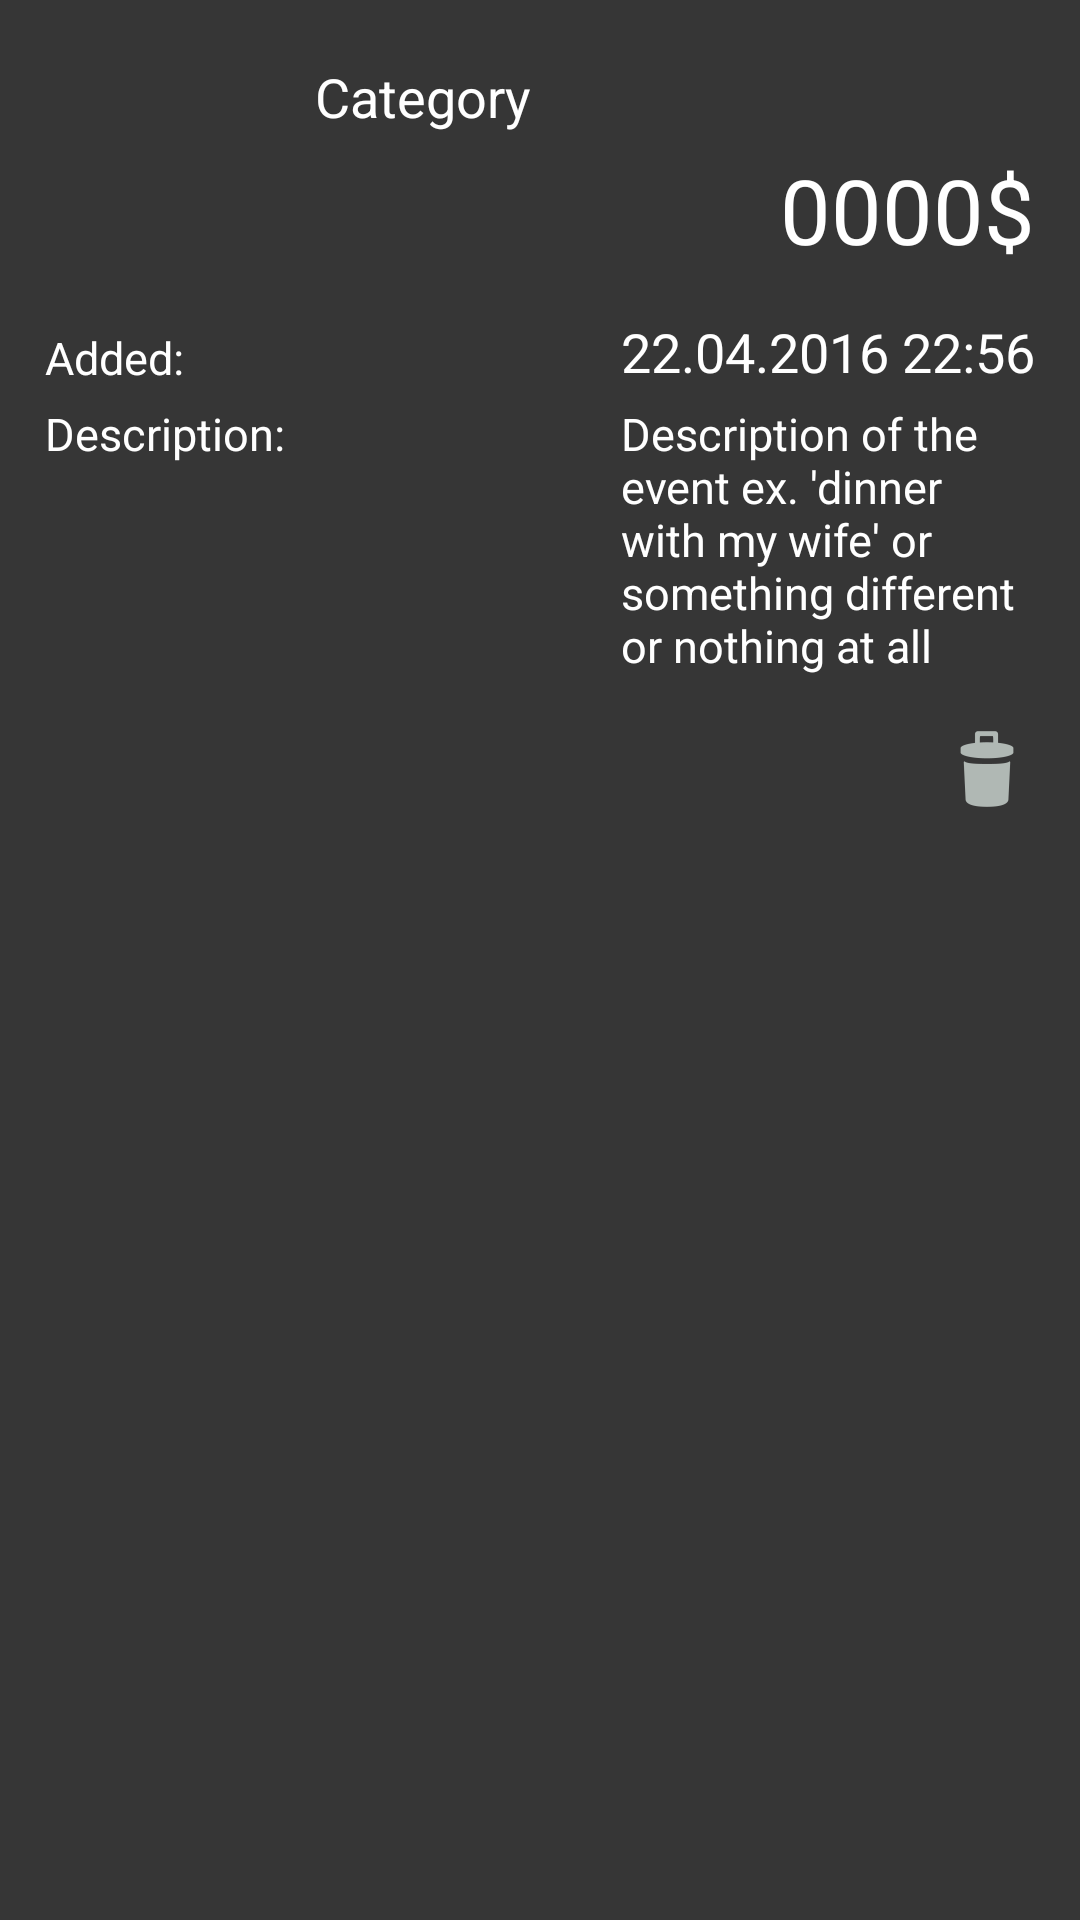

Named icons in this screenshot (1080px x 1920px) and their bounding boxes, (x1, y1, x2, y2):
delete: (960, 731, 1014, 807)
